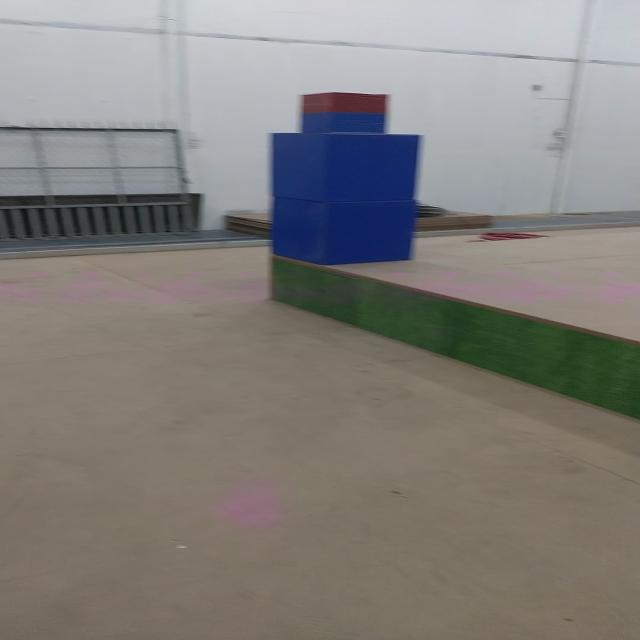earth_block: (261, 132, 429, 200), (265, 199, 429, 267)
sky_block: (290, 92, 398, 131)
